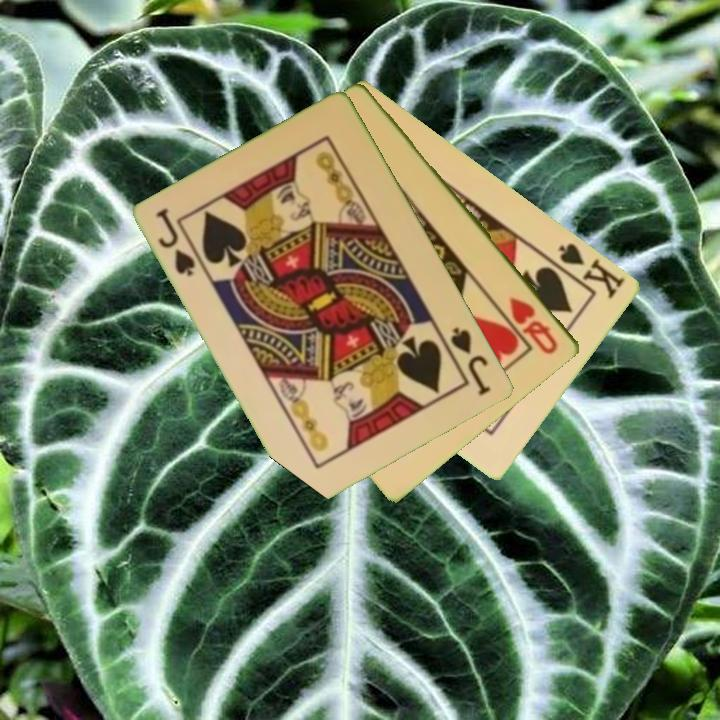Js: (447, 323, 494, 399), (152, 204, 199, 280)
Ks: (555, 239, 629, 301)
Qh: (506, 293, 562, 358)
